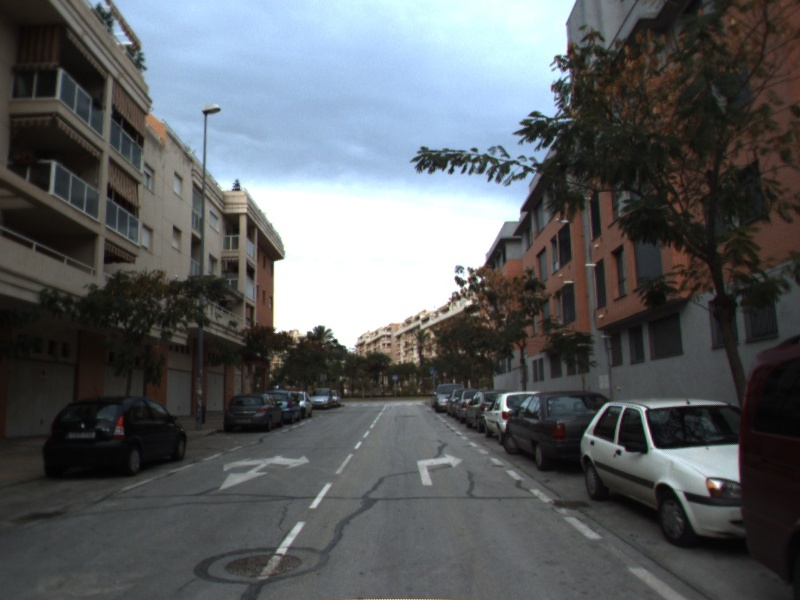RIGHT: (415, 451, 465, 487)
